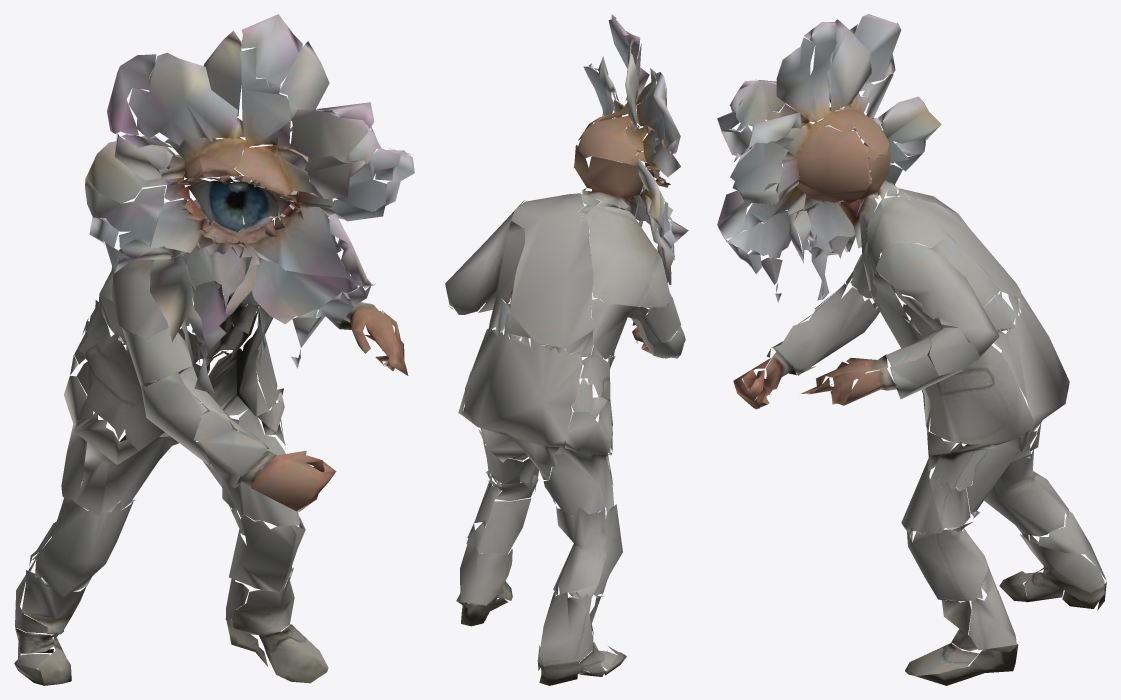
File: crowd_hustler.glb
3 renders of one model, left to right at view 1: azimuth 30°, elevation 25°; view 2: azimuth 150°, elevation 25°; view 3: azimuth 270°, elevation 25°, orthographic. The views are drawn at different scales.
Parts seen in each view (by area): view 1: tripo_node_9c831a25-49ee-4494-91a2-c6b040481e57; view 2: tripo_node_9c831a25-49ee-4494-91a2-c6b040481e57; view 3: tripo_node_9c831a25-49ee-4494-91a2-c6b040481e57.
Part boxes in pixels (x1=…): tripo_node_9c831a25-49ee-4494-91a2-c6b040481e57: x1=14, y1=14, x2=414, y2=685; tripo_node_9c831a25-49ee-4494-91a2-c6b040481e57: x1=445, y1=14, x2=688, y2=685; tripo_node_9c831a25-49ee-4494-91a2-c6b040481e57: x1=717, y1=14, x2=1106, y2=685.
Bounding box in the file's own units: 0.7339 × 1.88 × 1.07.
1 material, 1 textured.
